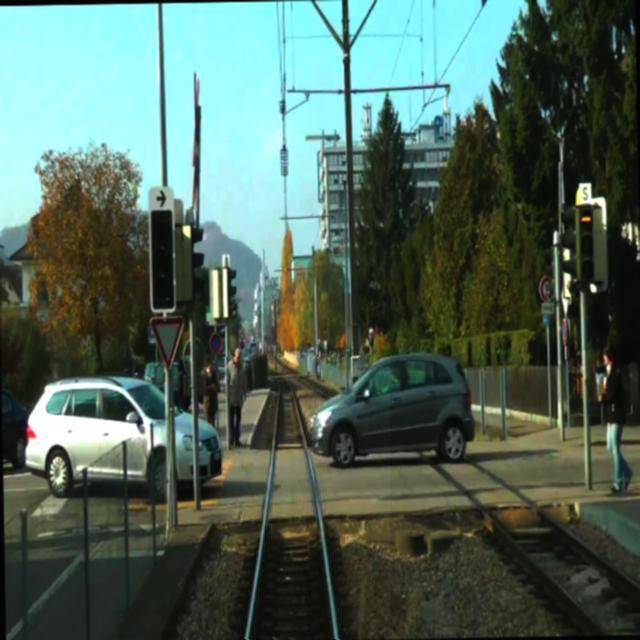rail: (223, 358, 391, 640)
